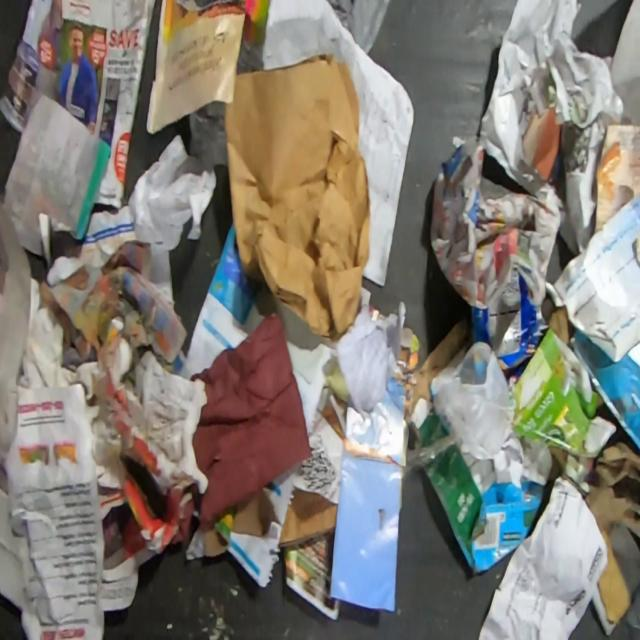cardboard: (478, 474, 632, 640), (422, 423, 554, 575), (510, 306, 617, 459), (470, 267, 549, 377), (408, 314, 471, 449), (584, 441, 640, 538), (278, 486, 338, 549), (0, 485, 29, 612), (230, 487, 278, 538)
soft_plastic: (127, 134, 217, 250), (436, 340, 512, 461), (326, 0, 390, 55)
